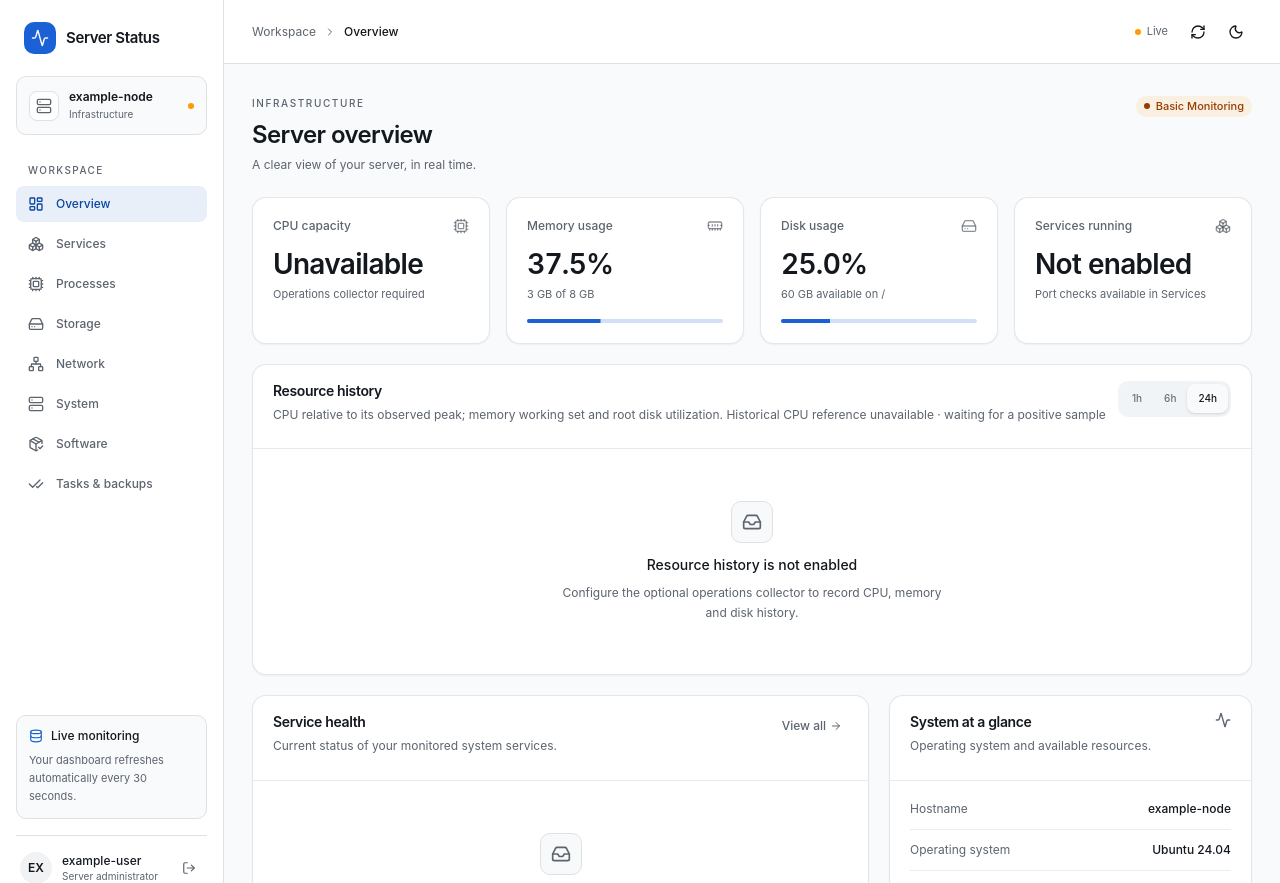
Test: dashboard features › preserves the basic dashboard when the optional collector is disabled
Expected: the text "Basic monitoring" is shown, [1136,96,1252,116]
Click the link "Processes" at (72, 284), box [28,276,116,292]
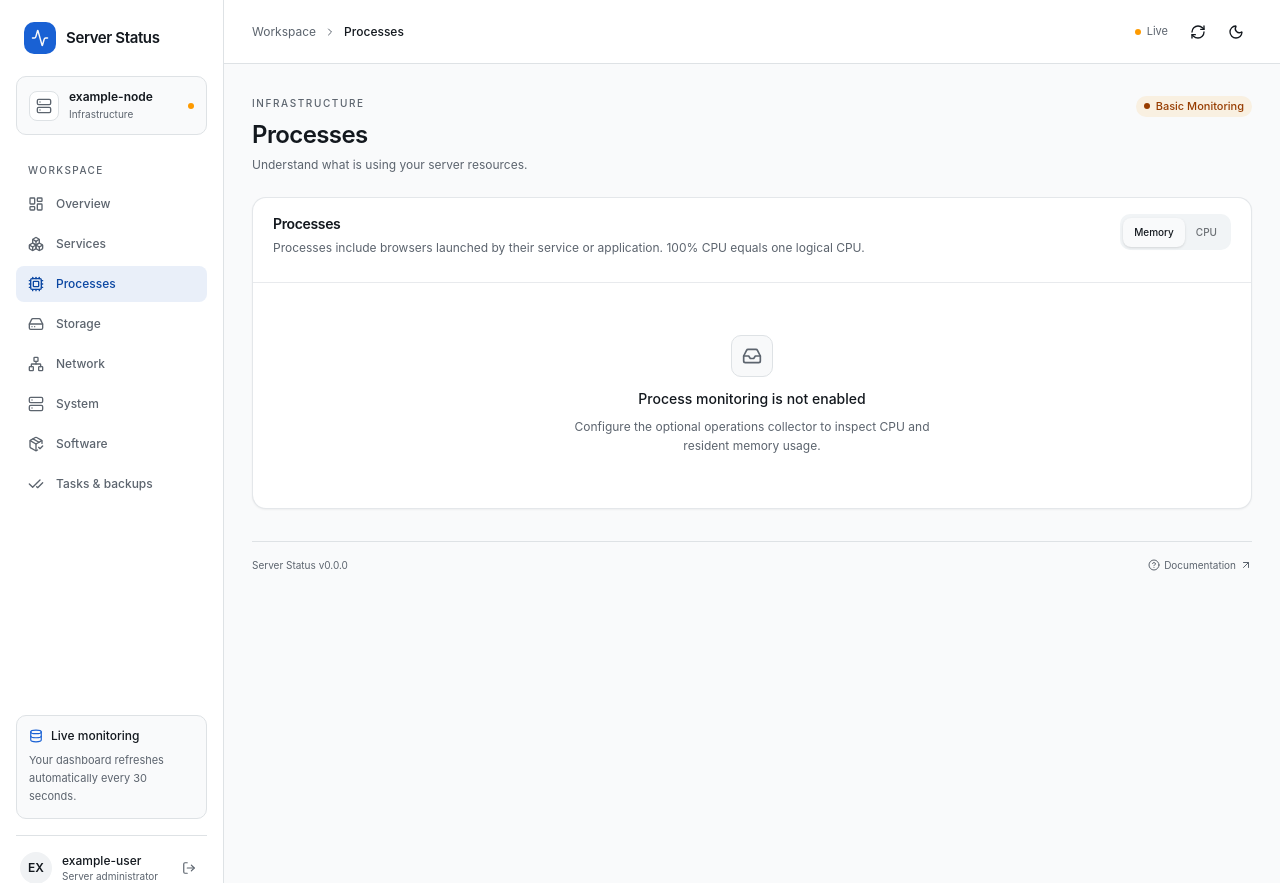
Now the text "Process monitoring is not enabled" is shown, box [638,388,866,408]
Click the link "System" at (63, 404), box [28,396,99,412]
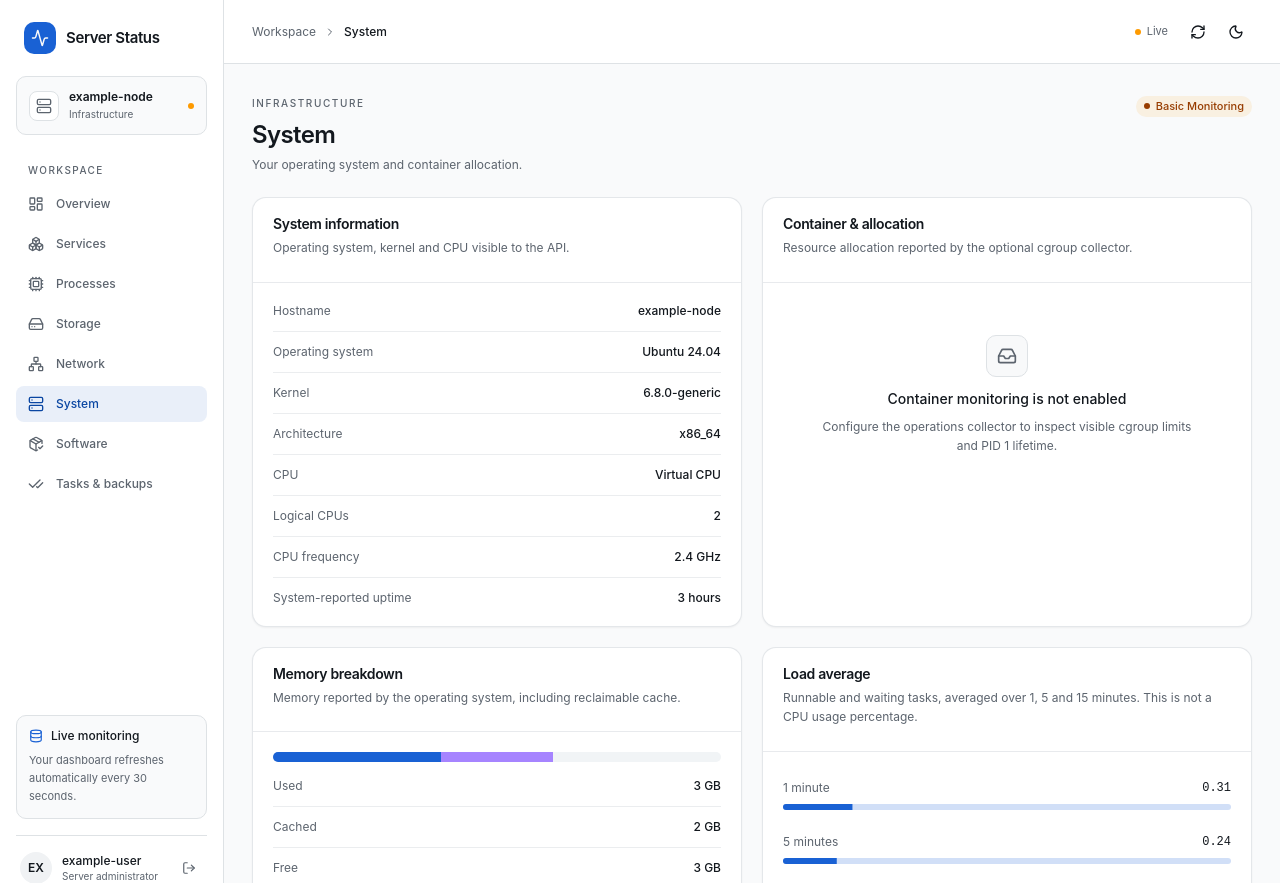
Now the text "Ubuntu 24.04" is shown, box [642,344,721,358]
